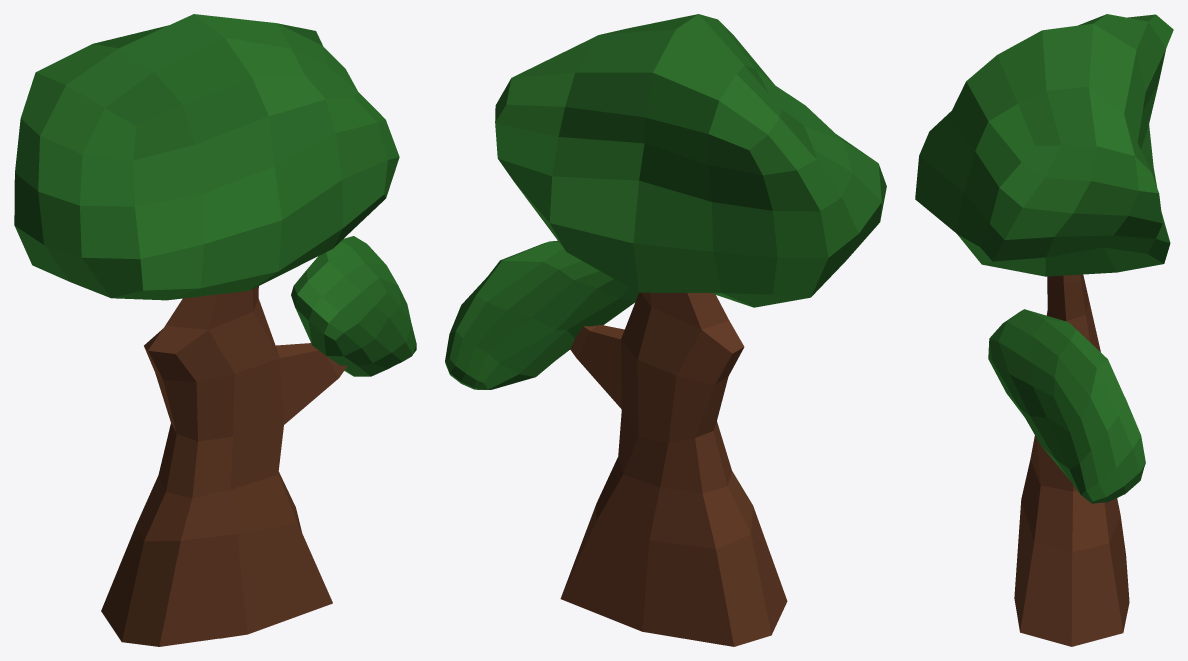
Rendered from Oak Tree 2.fbx.
The picture shows the model from 3 angles, left to right: view 1: azimuth 30°, elevation 25°; view 2: azimuth 150°, elevation 25°; view 3: azimuth 270°, elevation 25°; orthographic projection. The views are drawn at different scales.
Parts seen in each view (by area): view 1: Cube.001, Cube, Cube.002; view 2: Cube.001, Cube, Cube.002; view 3: Cube.001, Cube, Cube.002.
Part boxes in pixels (bbox=[...]): Cube.001: bbox=[14, 14, 399, 300]; Cube: bbox=[101, 286, 347, 646]; Cube.002: bbox=[291, 236, 416, 376]; Cube.001: bbox=[495, 14, 886, 307]; Cube: bbox=[560, 292, 787, 646]; Cube.002: bbox=[445, 240, 638, 389]; Cube.001: bbox=[915, 14, 1173, 276]; Cube: bbox=[1014, 274, 1129, 646]; Cube.002: bbox=[988, 309, 1145, 503].
Bounding box in the file's own units: 2590 × 3941 × 1556.
